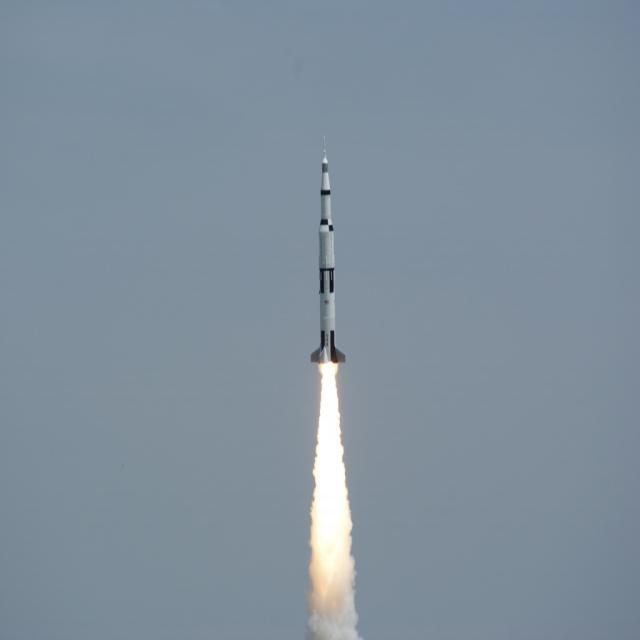Missile: (308, 136, 348, 373)
